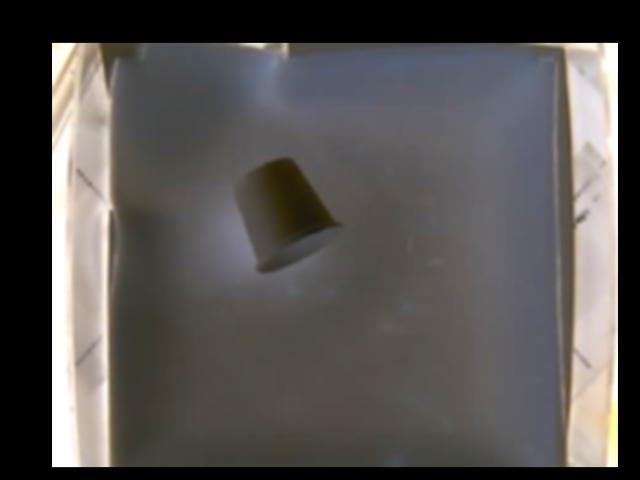Cup: (233, 158, 342, 272)
